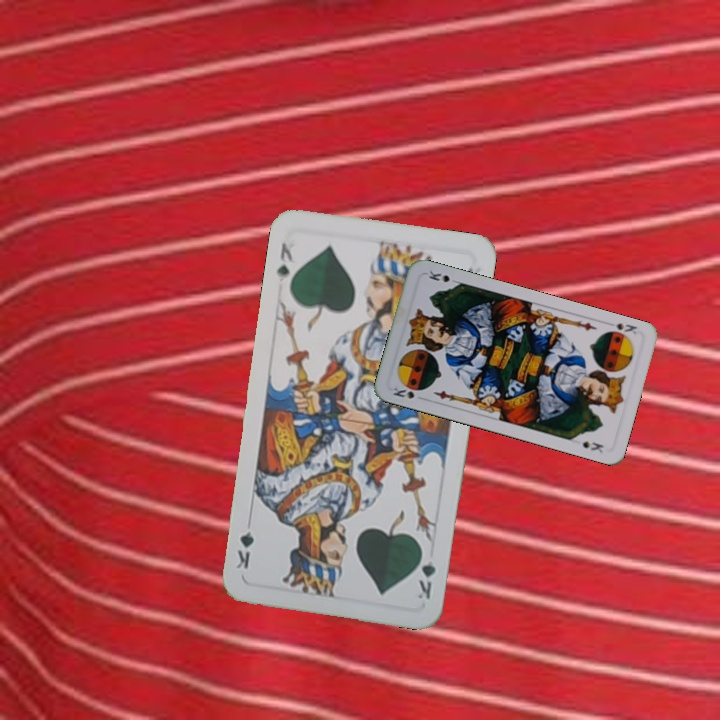GK: (413, 544, 439, 602), (273, 239, 298, 284)
SK: (389, 383, 428, 403), (611, 319, 640, 337)
